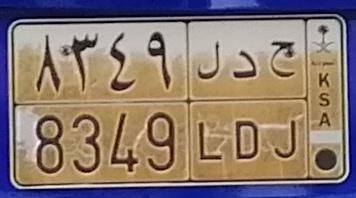3: (72, 33, 103, 175)
4: (106, 32, 141, 174)
8: (33, 33, 65, 175)
9: (145, 30, 178, 173)
D: (233, 49, 262, 160)
J: (269, 40, 301, 160)
L: (196, 39, 225, 162)
